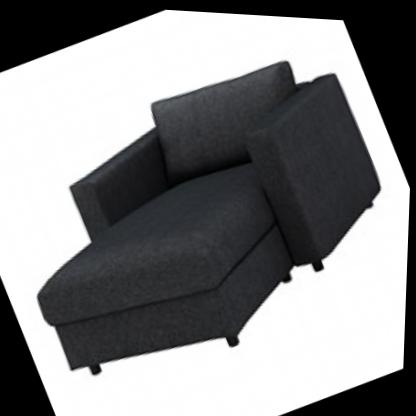Sofa: (0, 4, 416, 416)
